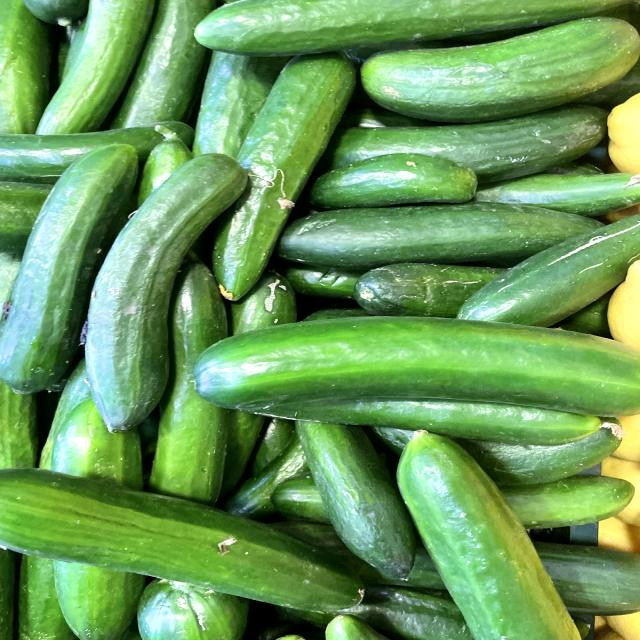cucumber: (164, 309, 640, 448), (80, 140, 265, 443)
